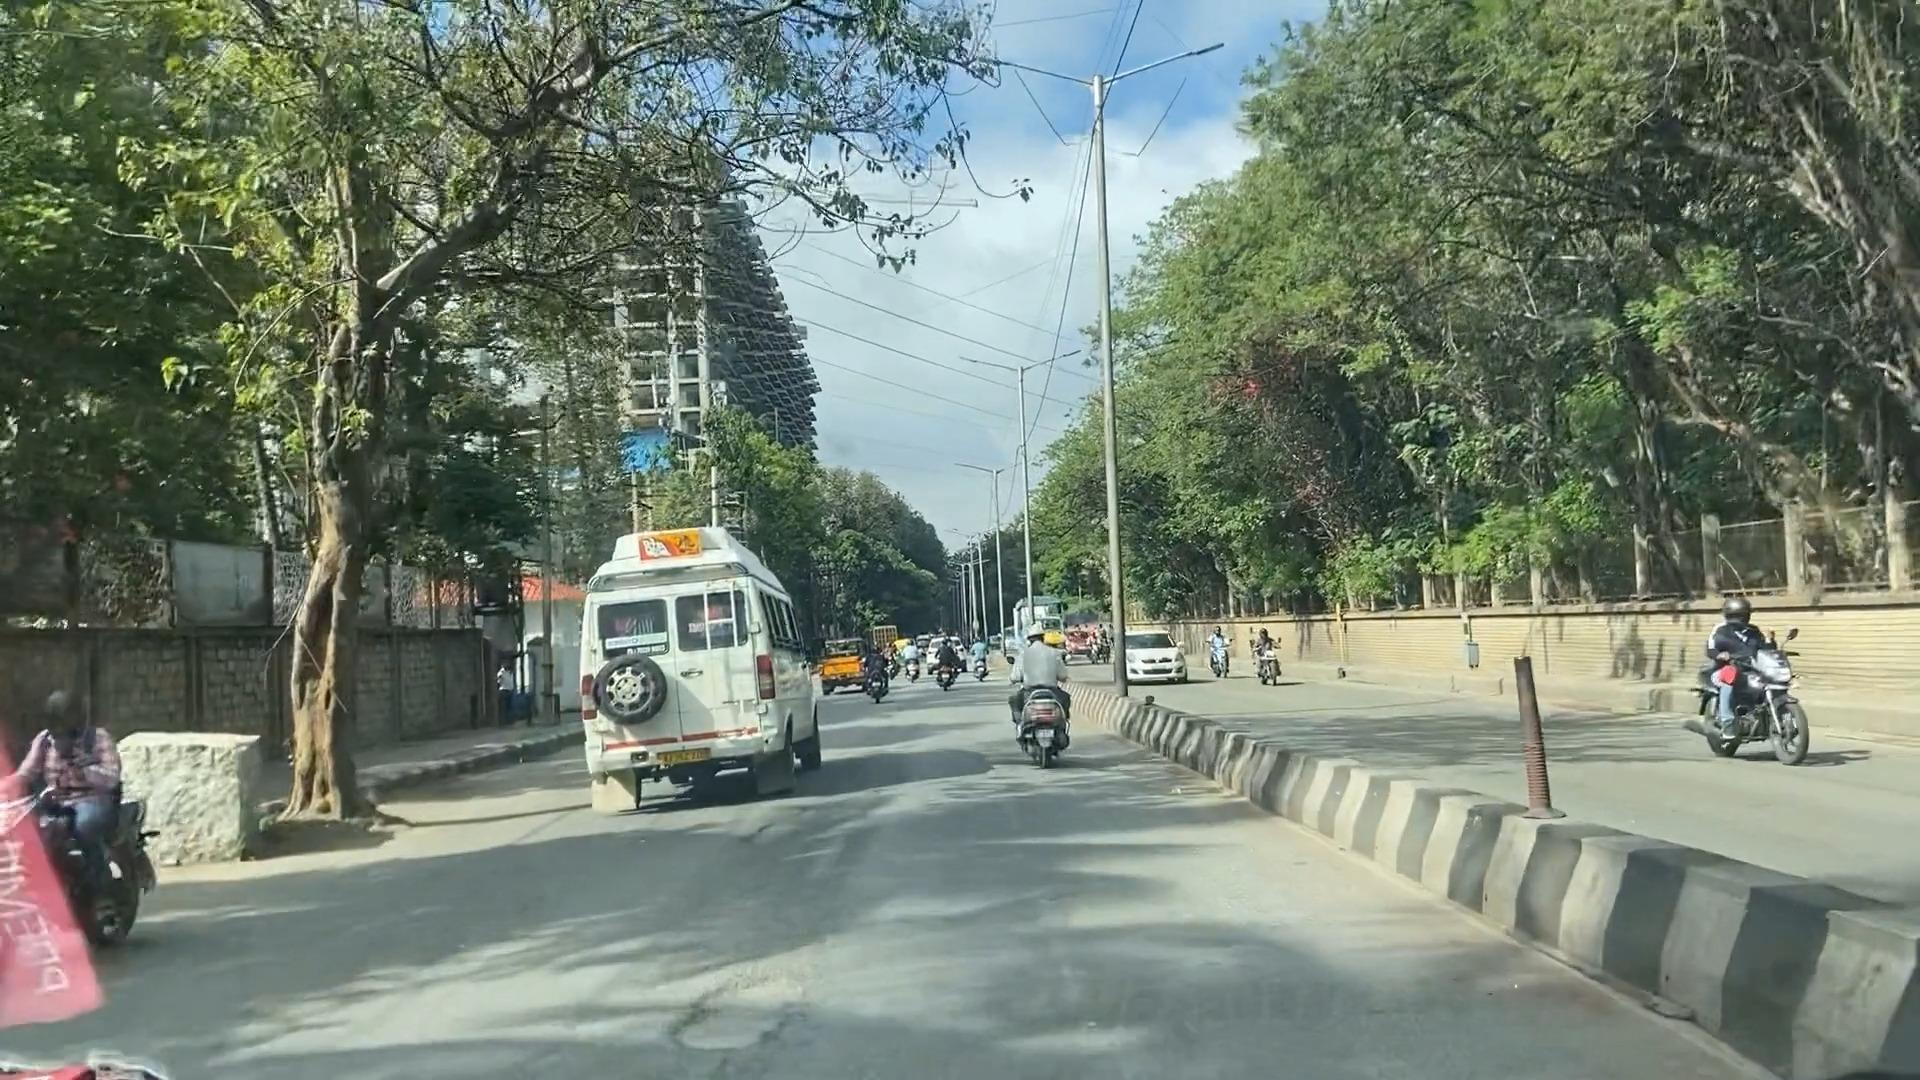HMV: (585, 513, 823, 794)
LMV: (1026, 608, 1089, 769)
RoadDamages: (644, 920, 864, 1076)
